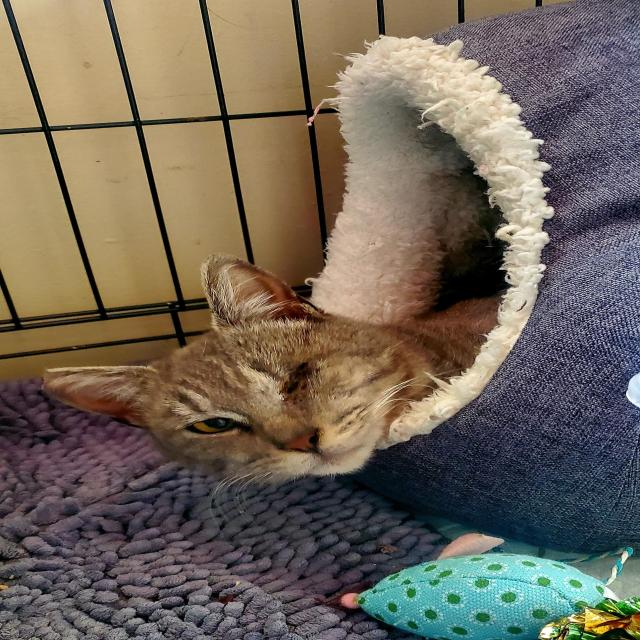american_shorthair_cat: (34, 250, 434, 486)
